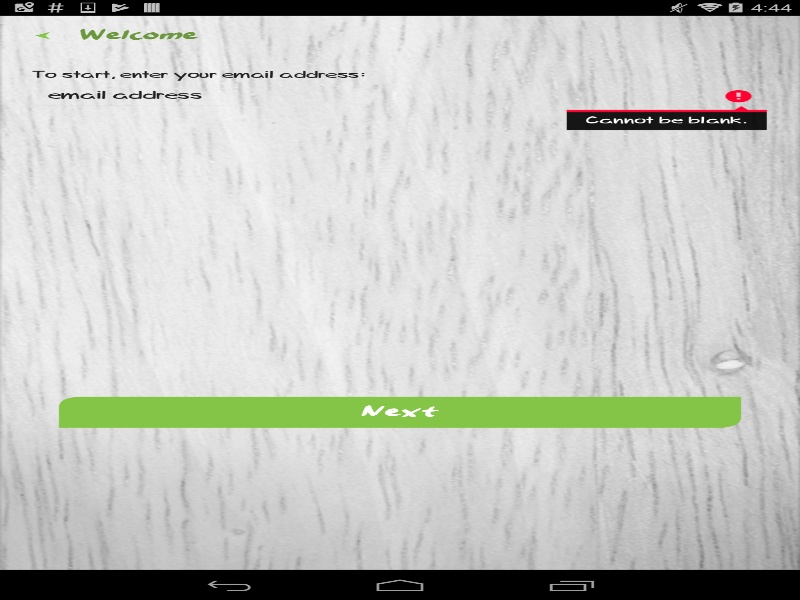Button: (58, 396, 741, 427), (0, 18, 74, 53)
Input: (32, 85, 768, 107)
